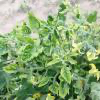Tomato leaf mosaic virus: (27, 12, 41, 31), (60, 66, 72, 84), (21, 49, 34, 61), (23, 37, 36, 45), (21, 25, 31, 35)
